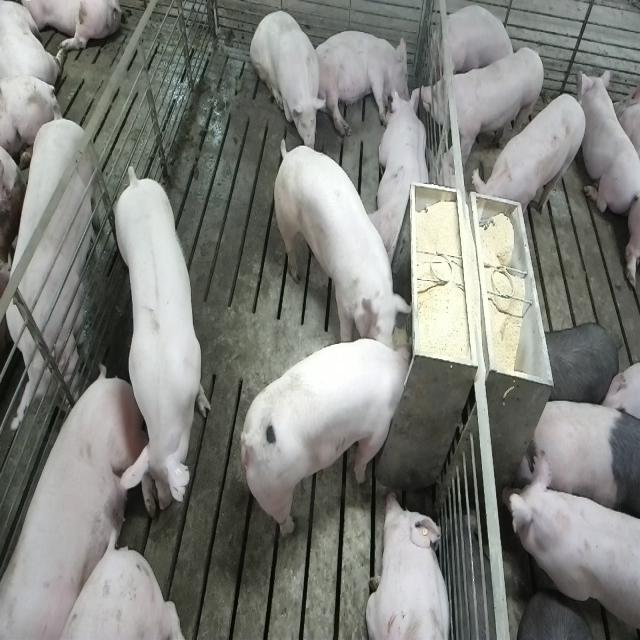Feeding: (238, 340, 414, 544), (270, 136, 408, 358)
Lateral_lying: (3, 362, 156, 636), (314, 29, 409, 137)
Sitting: (250, 8, 328, 152)
Standing: (111, 158, 208, 521), (0, 104, 103, 422), (503, 448, 638, 638), (474, 92, 587, 236), (421, 46, 545, 173), (523, 395, 637, 523)
Sternal_lying: (368, 491, 455, 640), (372, 85, 432, 262), (580, 70, 638, 222)
